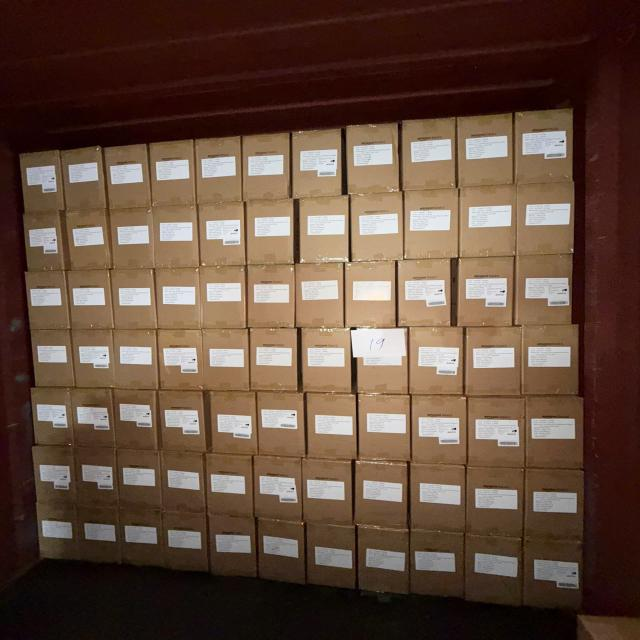Carton: (523, 537, 584, 613), (525, 395, 586, 470), (519, 184, 579, 259), (526, 468, 588, 540), (516, 251, 576, 325), (522, 324, 582, 398), (516, 109, 575, 184), (467, 536, 526, 610), (456, 254, 516, 326), (458, 186, 516, 260), (466, 327, 526, 398), (467, 464, 526, 536), (469, 396, 527, 469), (456, 116, 514, 188), (412, 393, 468, 466), (404, 187, 460, 259), (408, 462, 464, 534), (401, 118, 456, 190), (398, 256, 454, 326), (407, 328, 463, 398), (410, 532, 466, 602), (355, 523, 407, 597), (349, 190, 403, 261), (344, 124, 398, 195), (352, 329, 408, 397), (355, 460, 409, 530), (358, 393, 412, 462), (307, 523, 358, 594), (304, 393, 356, 461), (301, 459, 352, 528), (296, 195, 348, 262), (295, 132, 346, 200), (345, 260, 397, 326), (302, 330, 354, 396), (254, 456, 304, 524), (258, 518, 307, 587), (74, 502, 125, 567), (30, 443, 82, 506), (248, 198, 298, 263), (206, 390, 256, 455), (258, 392, 308, 457), (294, 262, 344, 327), (34, 499, 84, 564), (207, 517, 256, 583), (204, 453, 253, 518), (160, 513, 209, 578), (252, 328, 302, 391), (196, 140, 243, 207), (245, 138, 293, 203), (160, 390, 210, 452), (248, 263, 296, 327), (200, 200, 247, 265), (107, 144, 153, 209), (150, 144, 195, 210), (152, 204, 198, 268), (202, 264, 248, 328), (115, 329, 161, 392), (116, 449, 162, 512), (202, 330, 248, 393), (155, 266, 201, 328), (64, 208, 110, 270), (163, 452, 209, 514), (160, 330, 205, 393), (62, 152, 107, 214), (114, 391, 159, 453), (112, 206, 156, 269), (113, 269, 159, 329), (67, 268, 112, 328), (32, 327, 76, 388), (72, 388, 116, 449), (119, 511, 162, 573), (22, 154, 64, 216), (24, 212, 67, 272), (73, 450, 116, 510), (28, 270, 71, 329), (70, 331, 111, 392), (33, 389, 74, 449)
